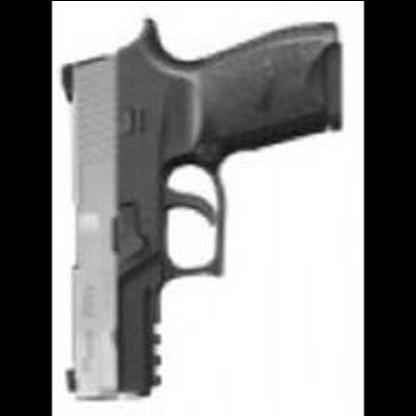weapon: (59, 14, 342, 410)
